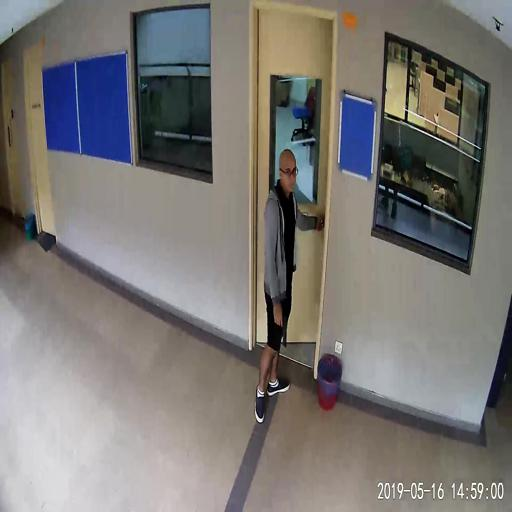pistol: (273, 312, 287, 347)
